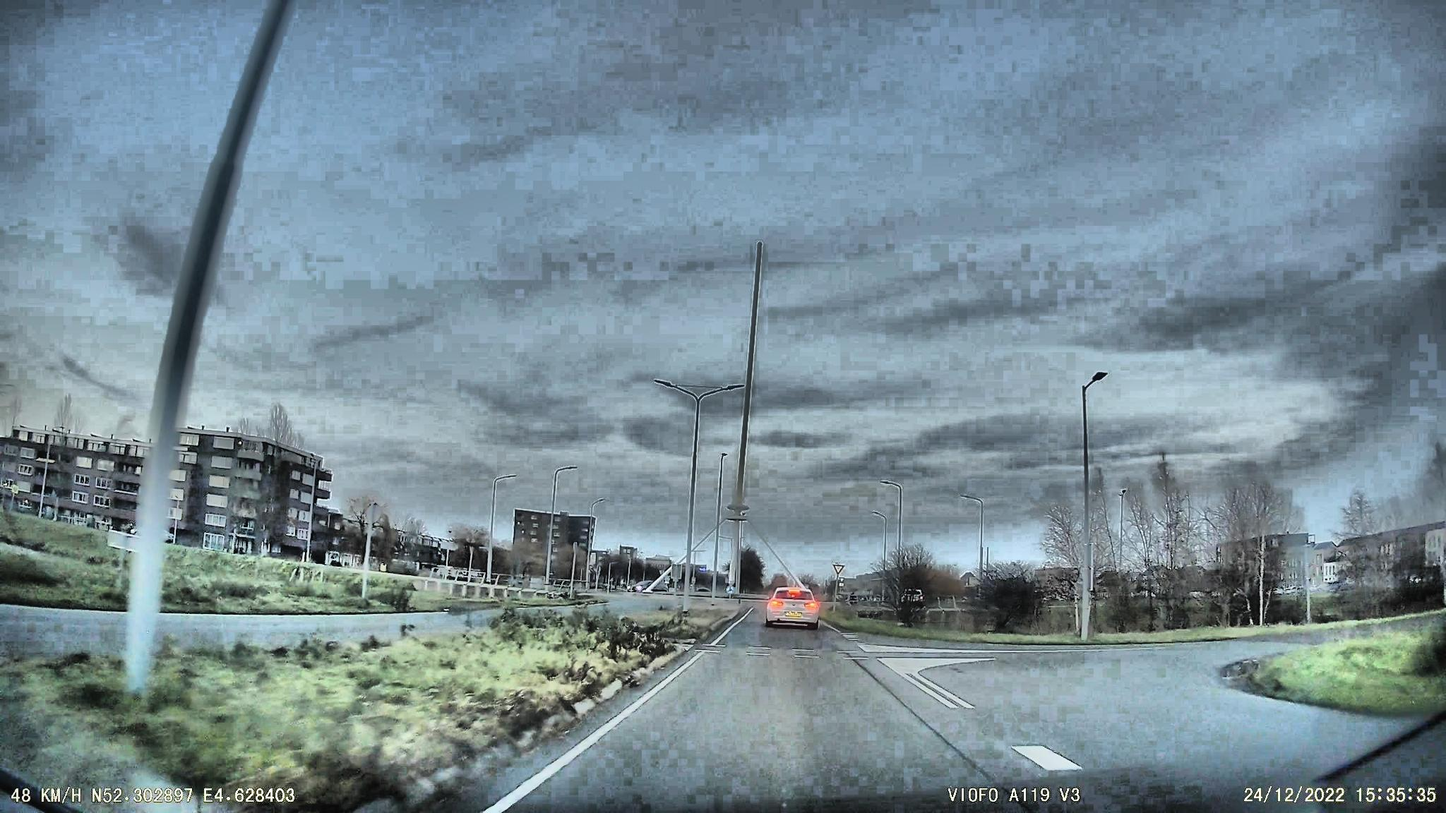Roads: (400, 607, 1446, 813)
